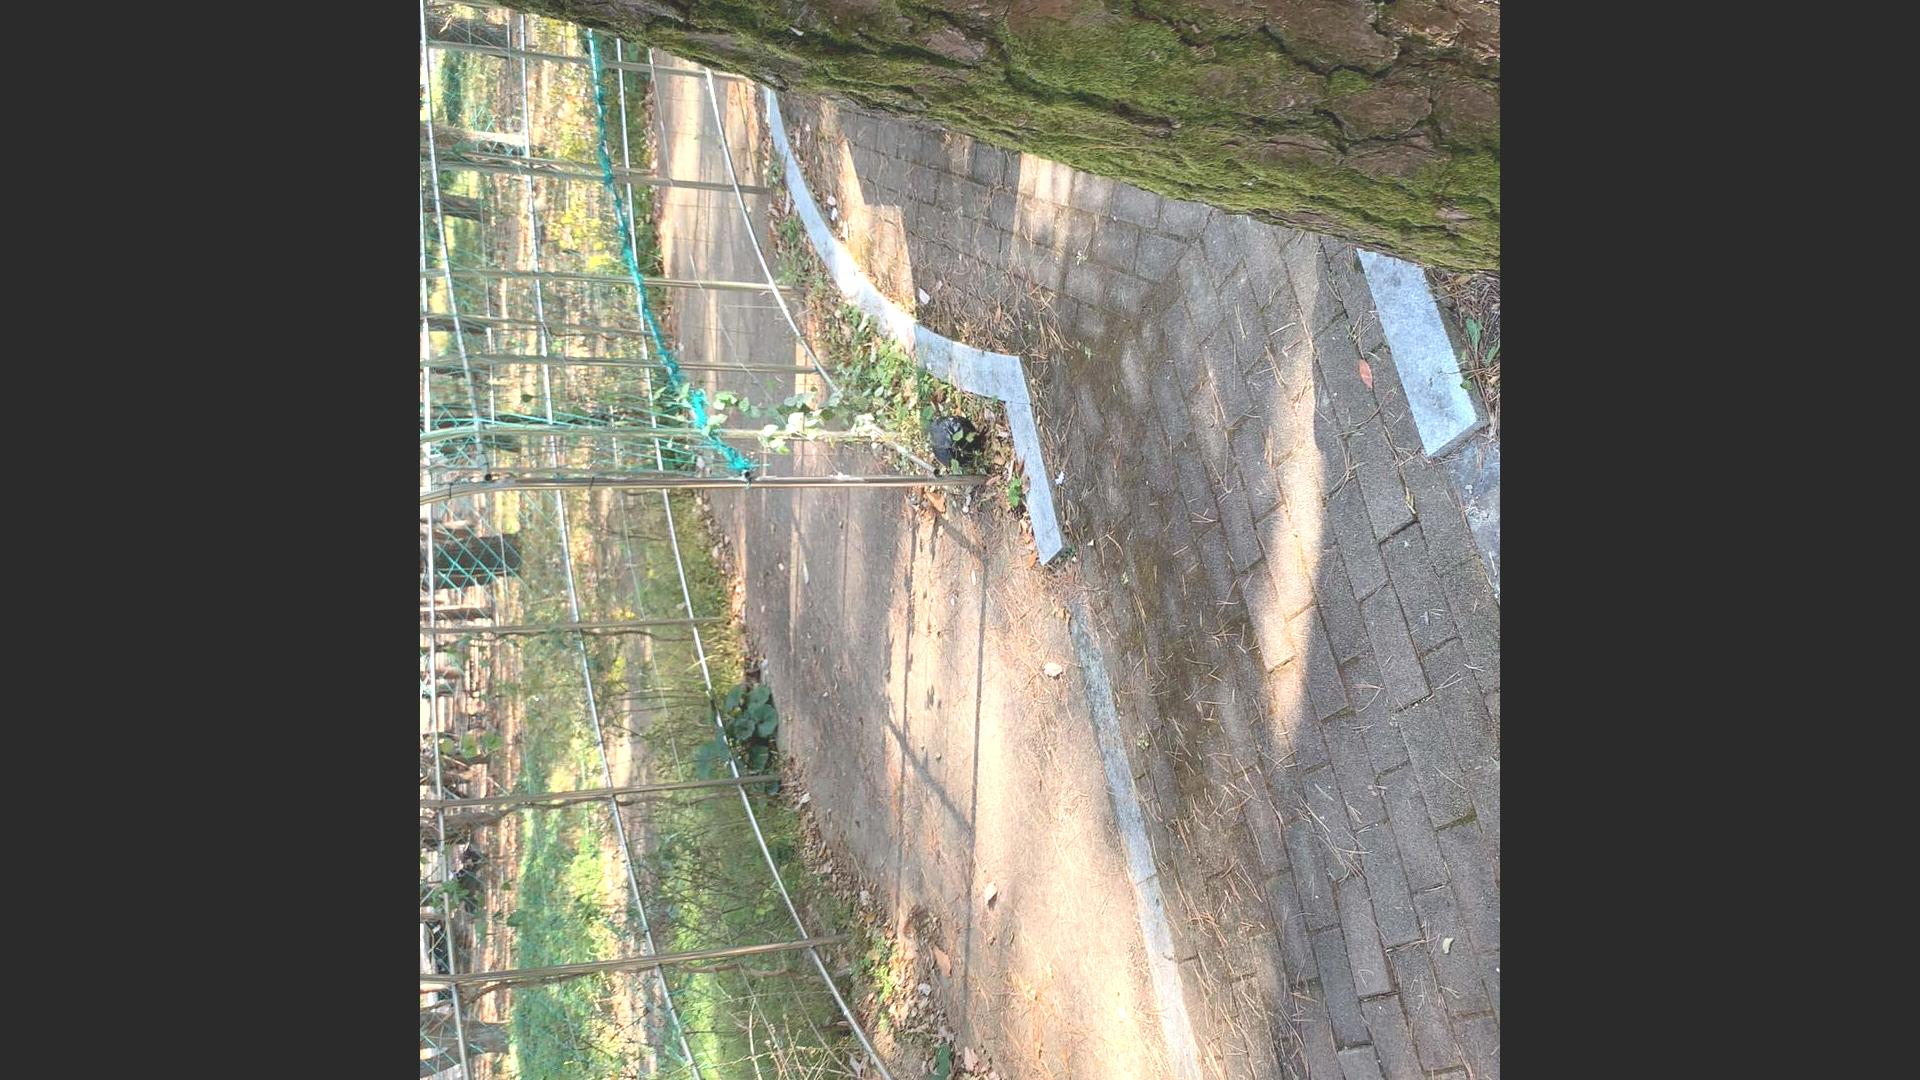black_bag: (924, 411, 986, 469)
